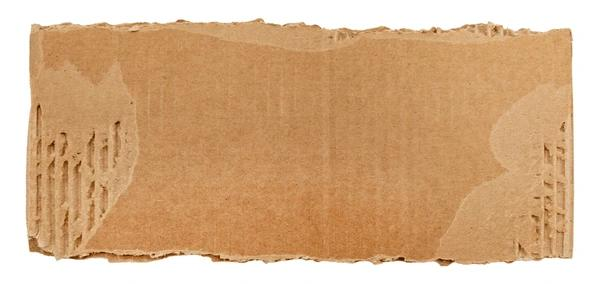plastic: (26, 18, 575, 265)
